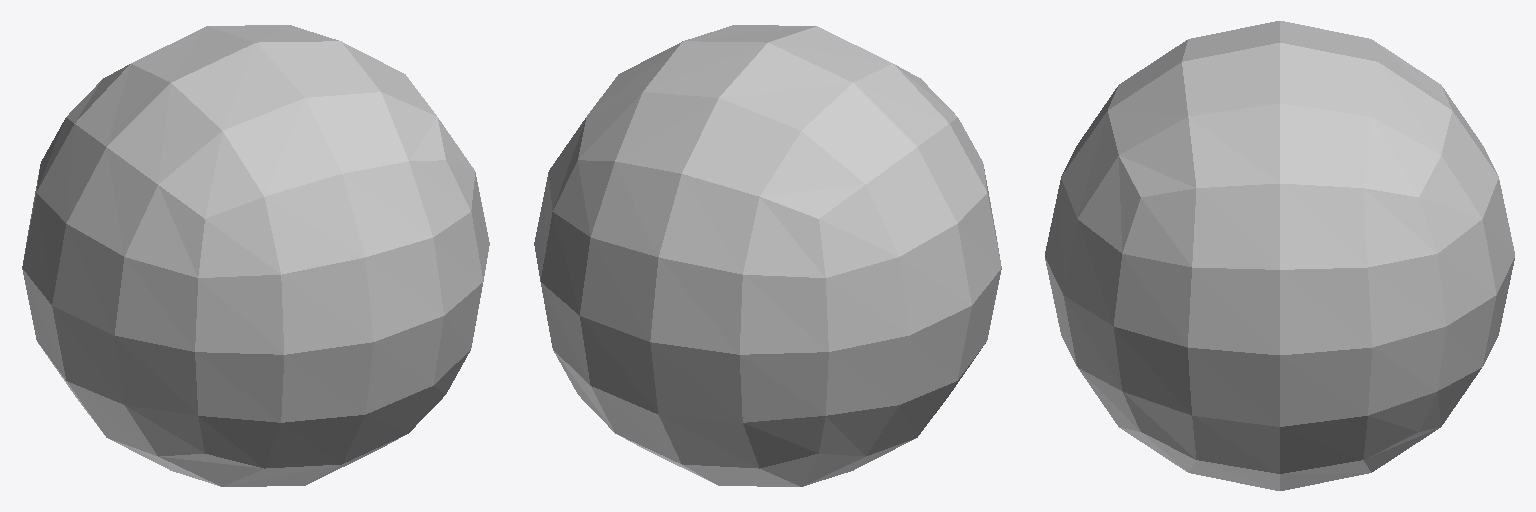
File: EyeL.obj
3 views of the same model, side by side, from view 1: azimuth 30°, elevation 25°; view 2: azimuth 150°, elevation 25°; view 3: azimuth 270°, elevation 25° (orthographic).
Parts seen in each view (by area): view 1: EyeL; view 2: EyeL; view 3: EyeL.
Boxes of the visible parts, <box> form: EyeL: <box>22,25,489,486</box>; EyeL: <box>534,25,1001,486</box>; EyeL: <box>1045,21,1514,490</box>.
Bounding box in the file's own units: 0.2122 × 0.2122 × 0.2122.